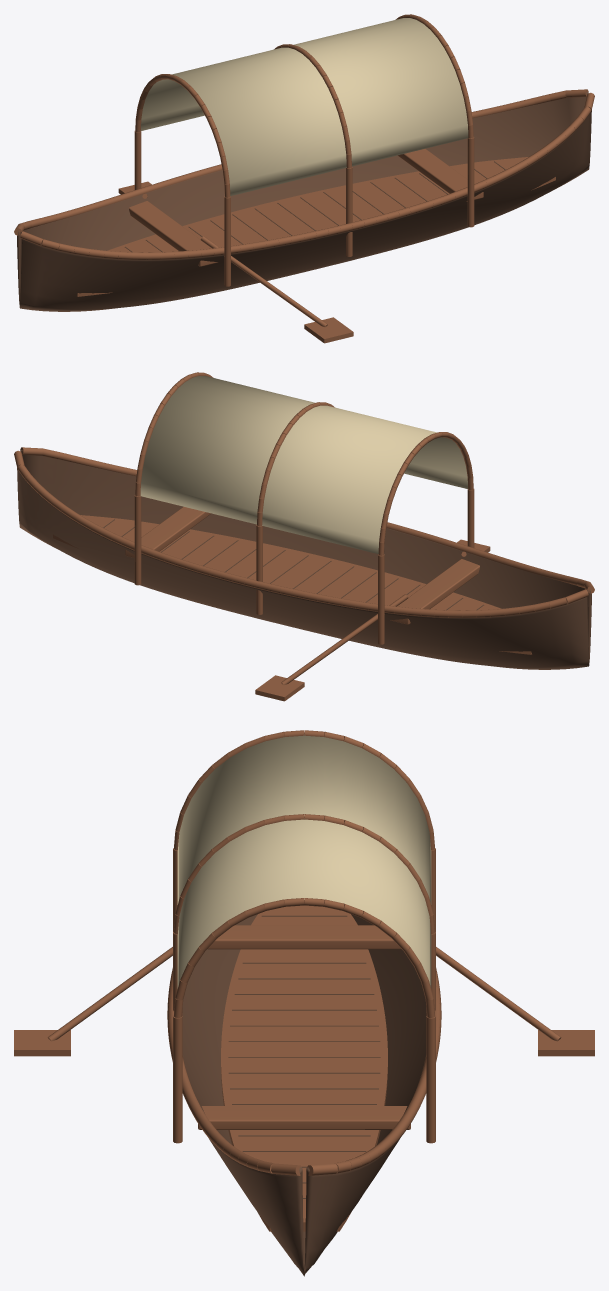
File: covered-lod0.glb
3 renders of one model, top to bottom at view 1: azimuth 30°, elevation 25°; view 2: azimuth 150°, elevation 25°; view 3: azimuth 270°, elevation 25°, orthographic. The views are drawn at different scales.
Parts seen in each view (by area): view 1: covered.hull, covered.cloth, covered.wood; view 2: covered.hull, covered.cloth, covered.wood; view 3: covered.wood, covered.cloth, covered.hull.
Boxes of the visible parts, box(x1,y1,x2,y2) form: covered.hull: box(17, 92, 591, 311); covered.cloth: box(140, 18, 468, 195); covered.wood: box(14, 14, 594, 343); covered.hull: box(17, 450, 591, 669); covered.cloth: box(140, 376, 468, 553); covered.wood: box(14, 372, 594, 701); covered.wood: box(14, 730, 594, 1231); covered.cloth: box(177, 734, 431, 988); covered.hull: box(182, 914, 426, 1276).
Bounding box in the file's own units: 6.26 × 2.26 × 3.88.
